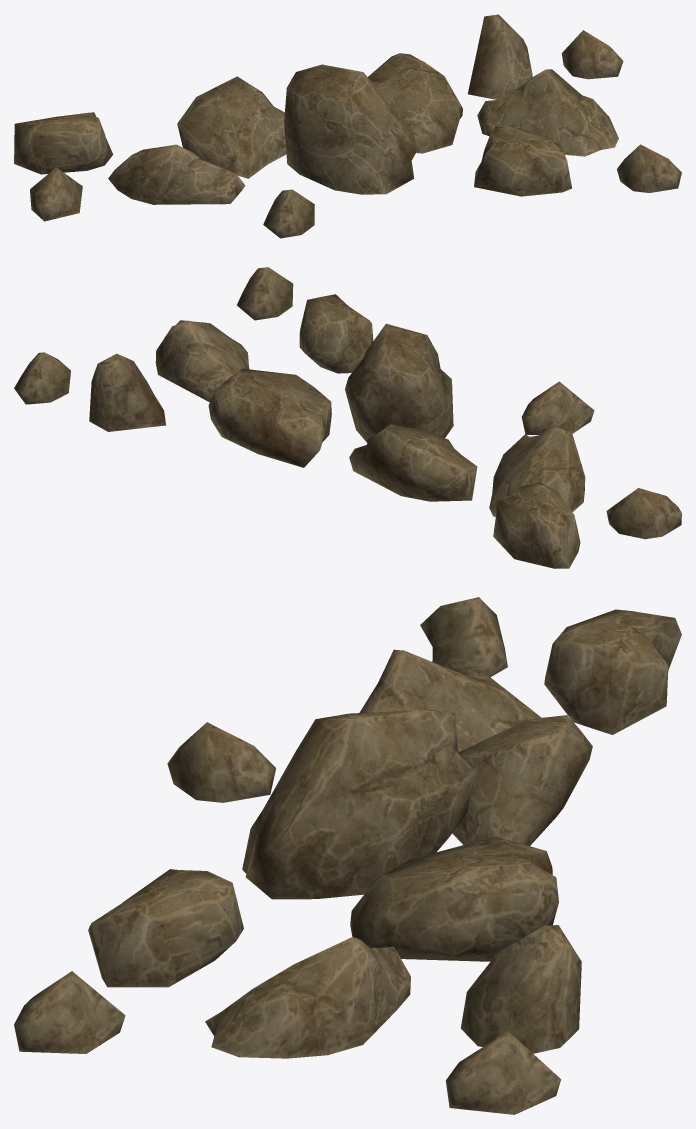
The model's file is Rubble2.fbx.
The picture shows the model from 3 angles, top to bottom: view 1: azimuth 30°, elevation 25°; view 2: azimuth 150°, elevation 25°; view 3: azimuth 270°, elevation 25°; orthographic projection. The views are drawn at different scales.
Visible parts, largest first — view 1: SM_a_005_Rubble_02a; view 2: SM_a_005_Rubble_02a; view 3: SM_a_005_Rubble_02a.
Part boxes in pixels (x1,y1,x2,y2): SM_a_005_Rubble_02a: [14, 14, 681, 238]; SM_a_005_Rubble_02a: [14, 267, 681, 568]; SM_a_005_Rubble_02a: [14, 597, 681, 1114].
Size of the model in its own units: 326 by 50.13 by 192.
